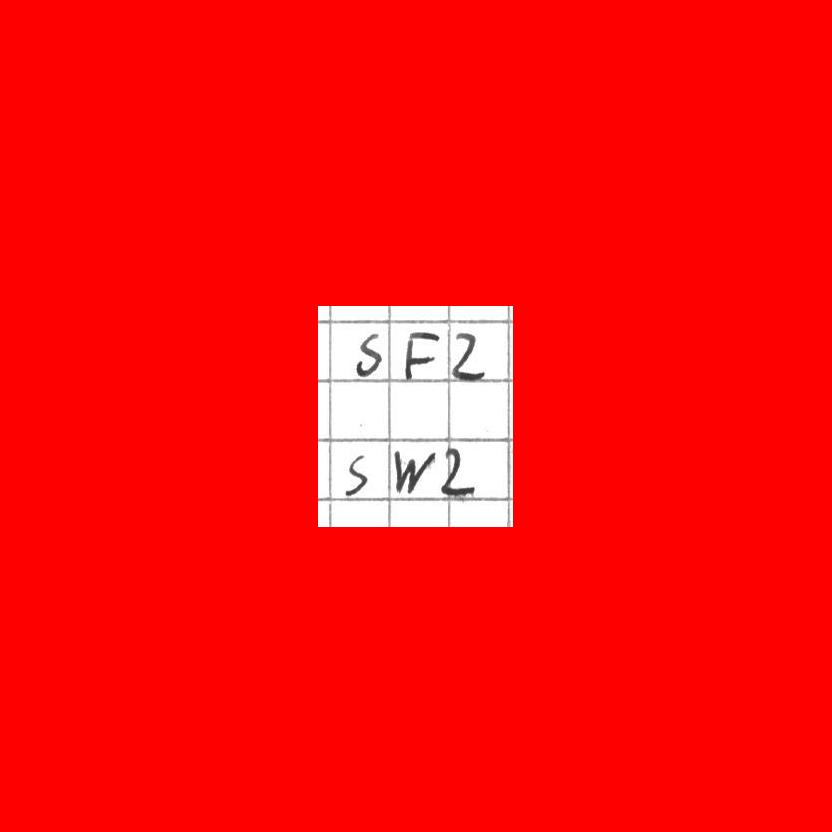Char: (390, 445, 437, 496), (450, 330, 490, 384), (401, 327, 440, 381), (438, 445, 476, 497), (340, 448, 373, 501), (351, 329, 384, 378)
